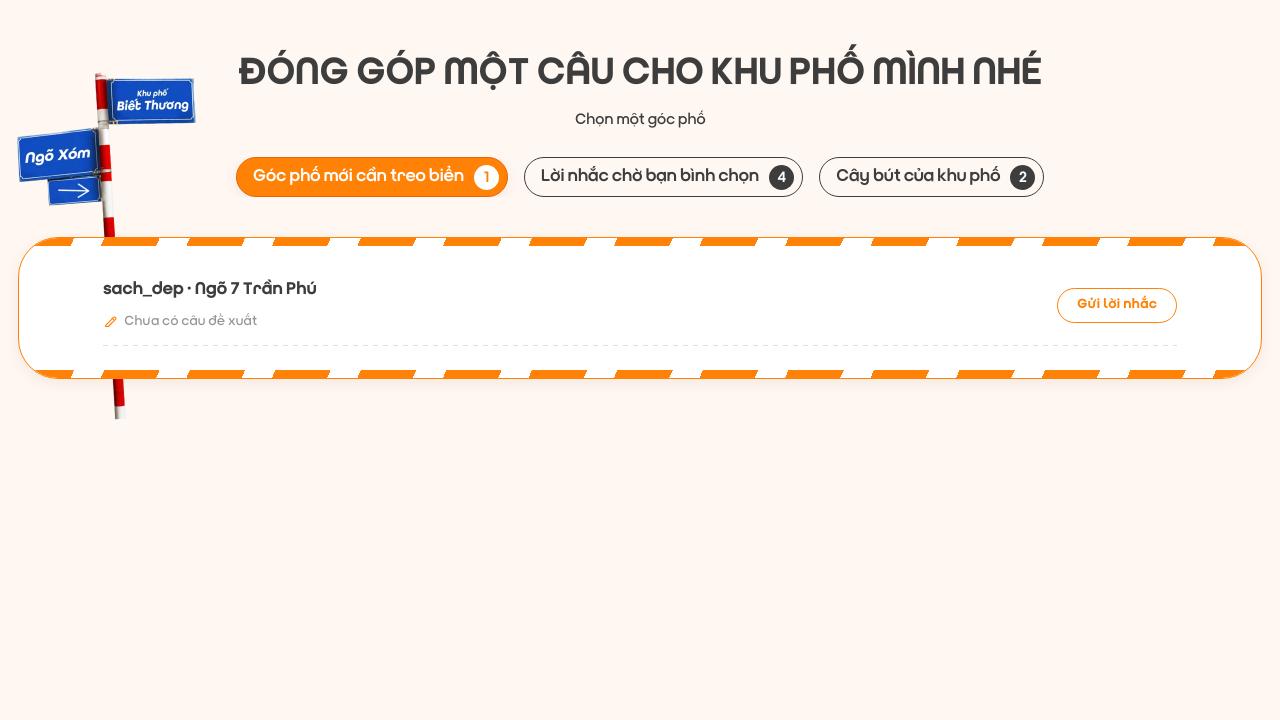
Test: IssueBoard — tab 2 'Lời nhắc chờ bạn bình chọn' (Figma live 4/9) › hàng là CÂU NHẮC, không phải góc phố
Click the text "Lời nhắc chờ bạn bình chọn".
click(650, 177)  # box [541,163,759,191]
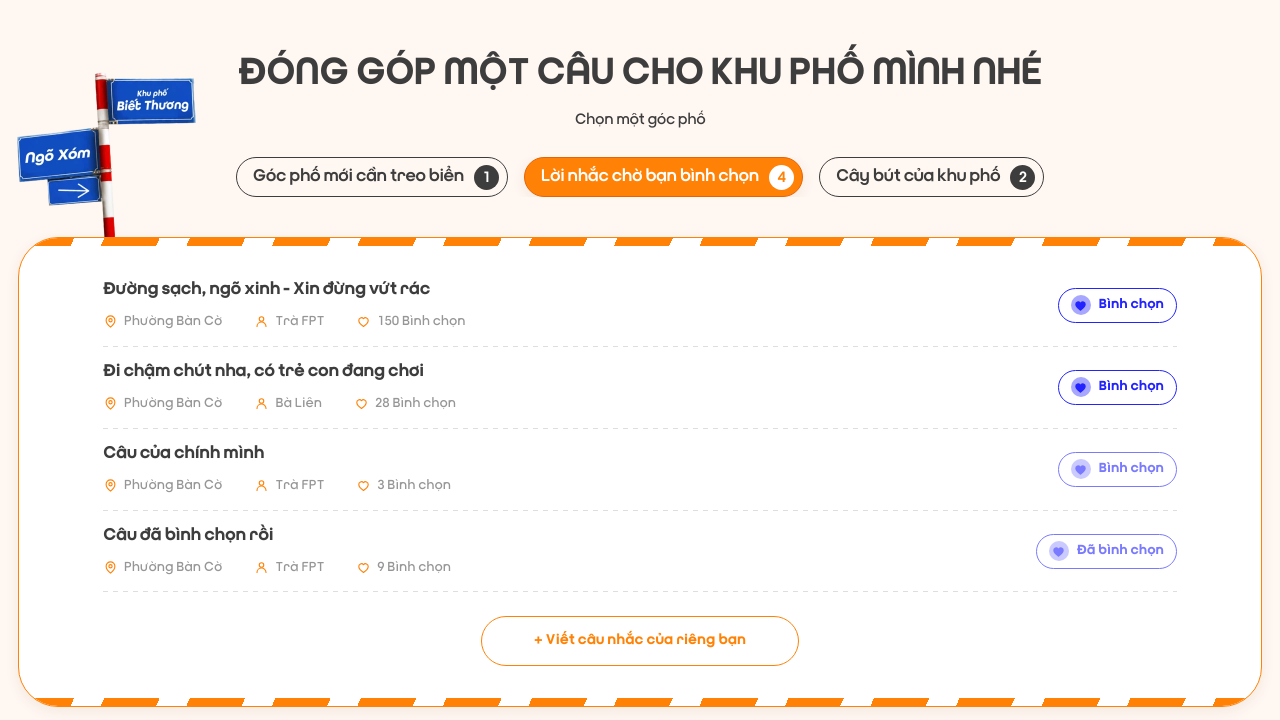
Expected: the text "Đường sạch, ngõ xinh - Xin đừng vứt rác" is shown, [103,280,430,299]
